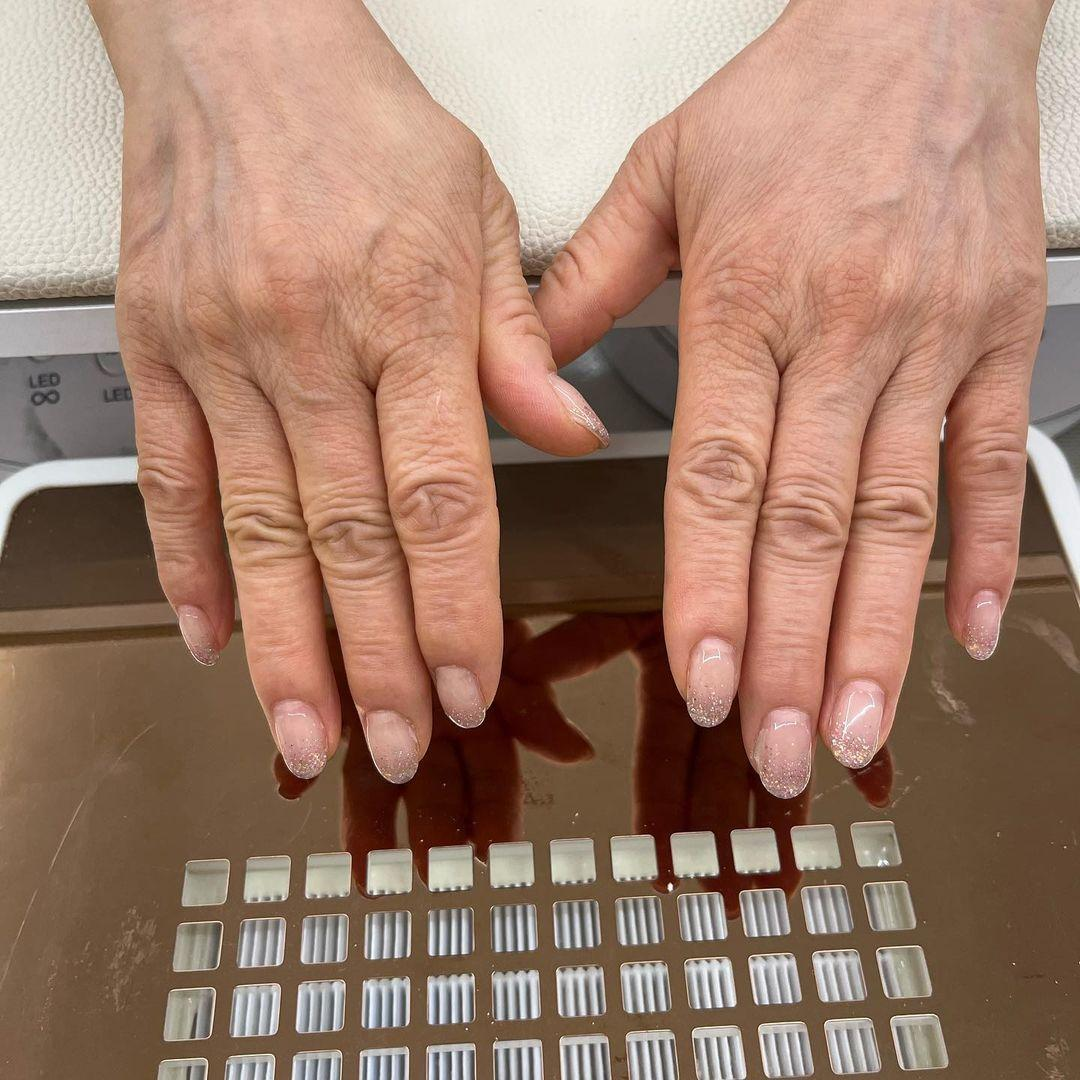nail: (751, 705, 813, 799), (823, 677, 885, 769), (684, 634, 737, 728), (546, 371, 610, 448), (271, 698, 328, 779), (361, 707, 420, 784), (432, 663, 486, 729), (174, 602, 219, 667), (962, 588, 1002, 660)
